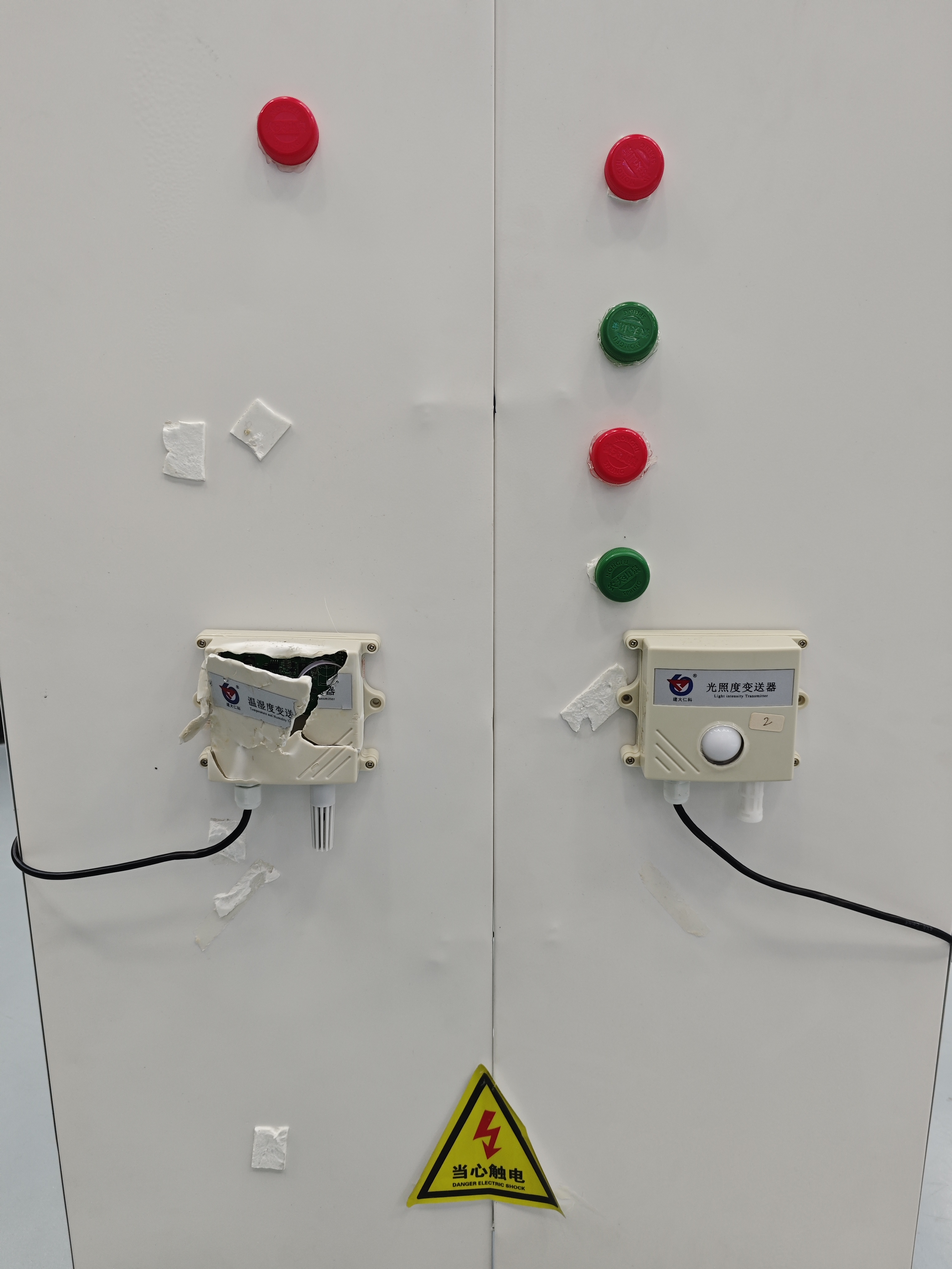red_warning: (242, 72, 343, 190), (588, 103, 691, 218), (564, 409, 693, 495)
sensor_damage: (139, 590, 417, 884)
